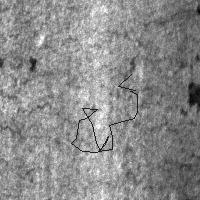crazing: (71, 74, 137, 152), (1, 88, 88, 144), (126, 111, 191, 184)
